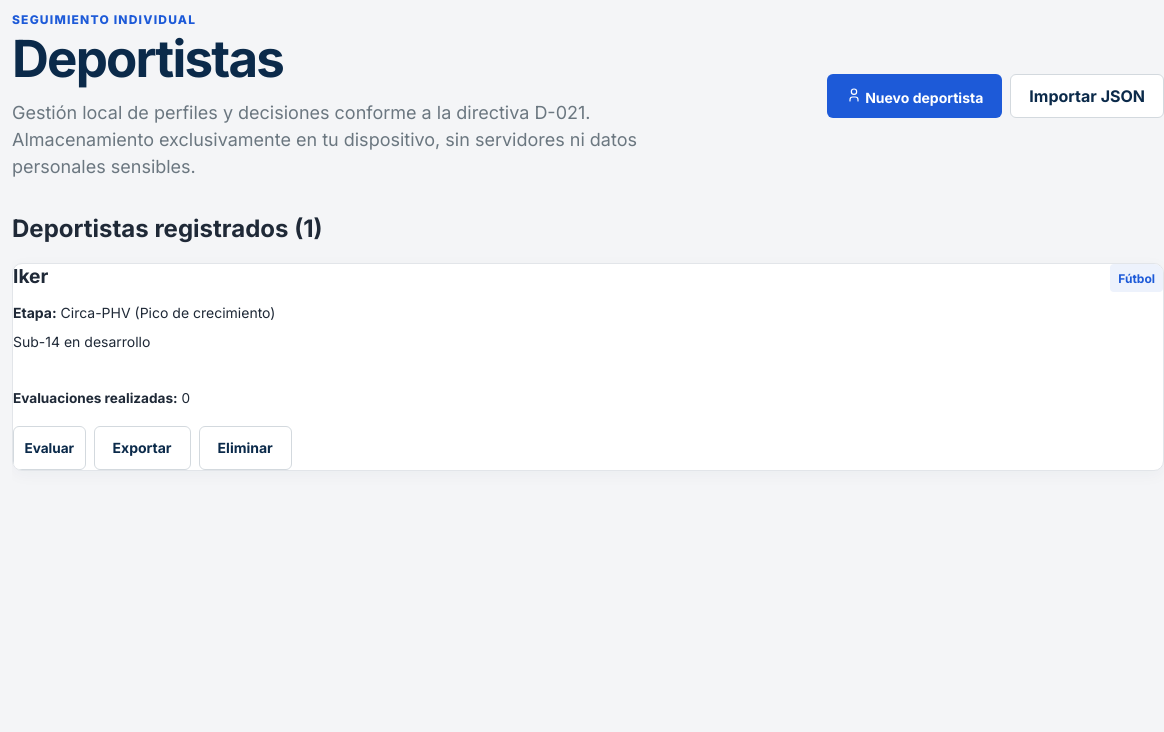
Test case: AthletesPage › renders an existing athlete and allows deleting it with right to erasure (D-021)
Expected: the heading "Iker" is shown, top-left (13, 264), bottom-right (48, 288)
Expected: the text "Sub-14 en desarrollo" is shown, top-left (13, 333), bottom-right (150, 350)
Click the button with aria-label "Eliminar perfil de Iker": (245, 448) top-left (199, 426), bottom-right (292, 470)
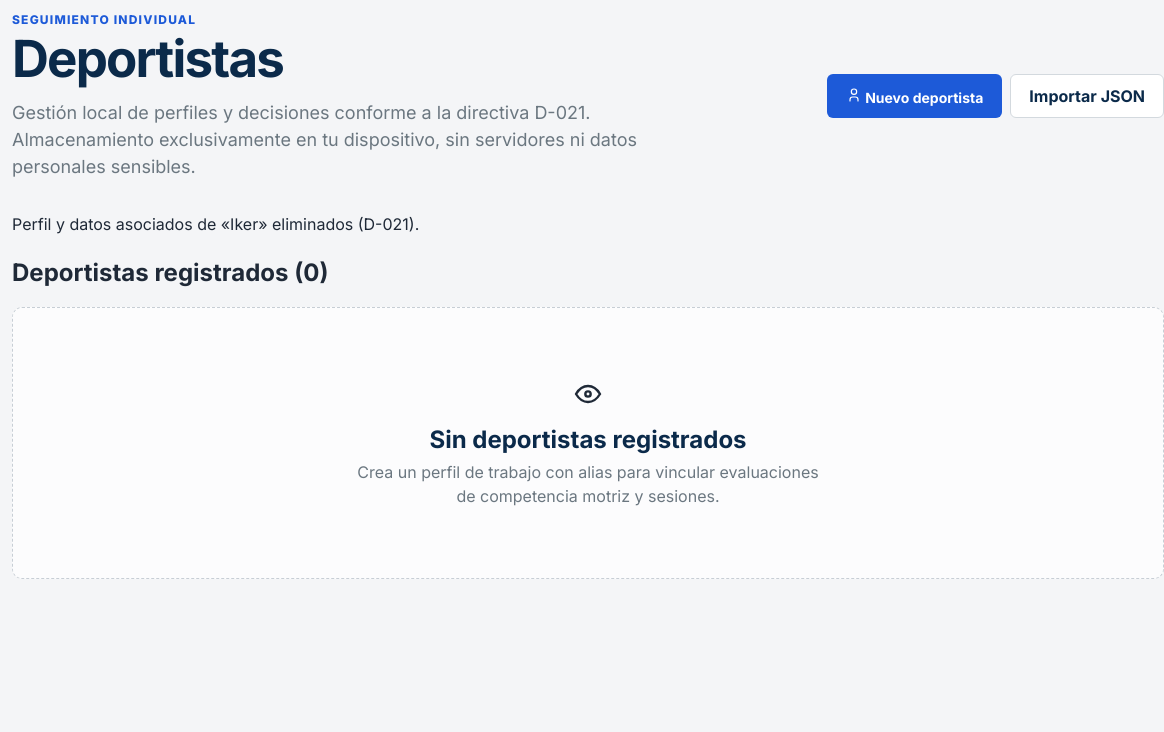
Now the text "Perfil y datos asociados de «Iker» eliminados (D-021)." is shown, box top-left (12, 214), bottom-right (419, 234)
Now the heading "Sin deportistas registrados" is shown, box top-left (429, 425), bottom-right (746, 454)
